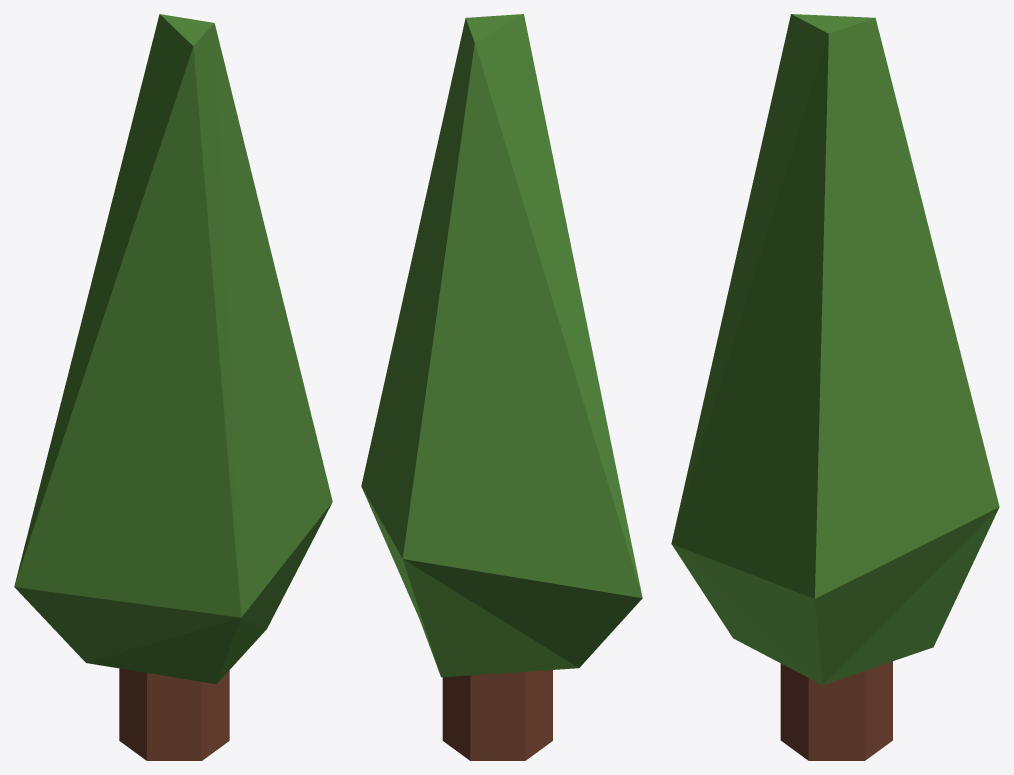
Rendered from Bush_10_summer_vc.fbx.
The picture shows the model from 3 angles, left to right: view 1: azimuth 30°, elevation 25°; view 2: azimuth 150°, elevation 25°; view 3: azimuth 270°, elevation 25°; orthographic projection.
Visible parts, largest first — view 1: Bush_10_summer_vc; view 2: Bush_10_summer_vc; view 3: Bush_10_summer_vc.
Boxes of the visible parts, <box> form: Bush_10_summer_vc: <box>14,14,332,760</box>; Bush_10_summer_vc: <box>361,14,642,760</box>; Bush_10_summer_vc: <box>671,14,999,760</box>.
Bounding box in the file's own units: 38.13 × 86.43 × 35.48.
